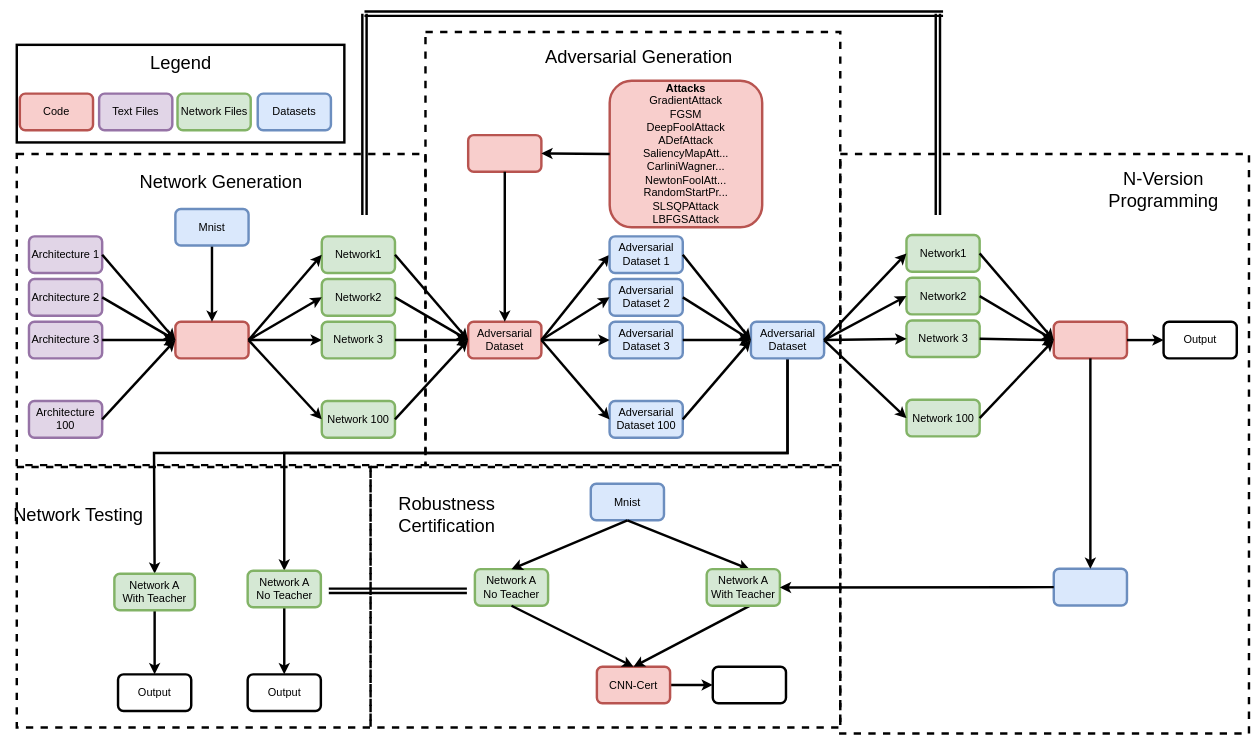
Some shapes in this 1260 by 745 pixel diagram are drawn without their labels. Here are the shapes that lost their labels. From the top down, the box of each, then its label:
(467, 134, 542, 173): Foolbox
(174, 320, 249, 359): Network Generator
(1052, 320, 1128, 359): Voter
(1052, 567, 1128, 606): Teacher Label Generator
(711, 665, 787, 704): Certified Robustness
